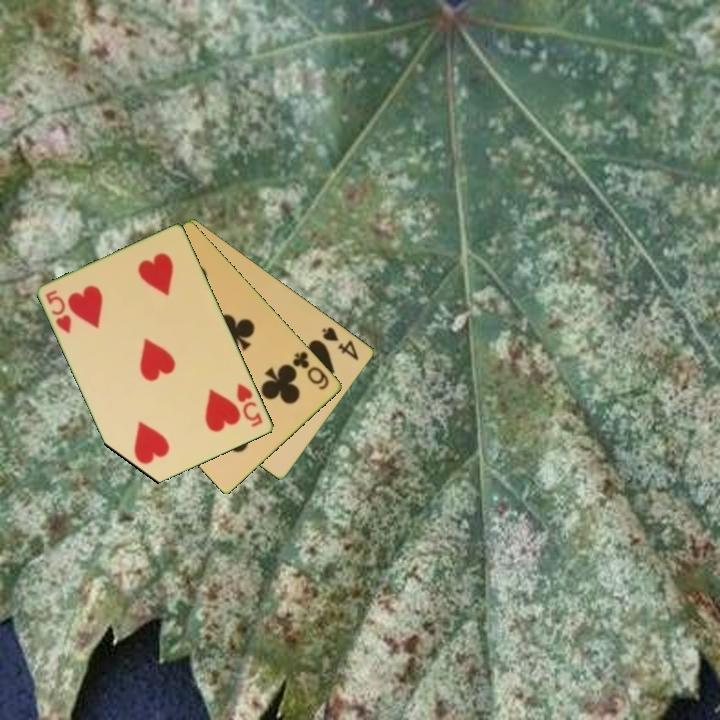4s: (319, 323, 362, 363)
5h: (42, 286, 75, 337), (233, 380, 266, 430)
6c: (289, 348, 333, 393)
